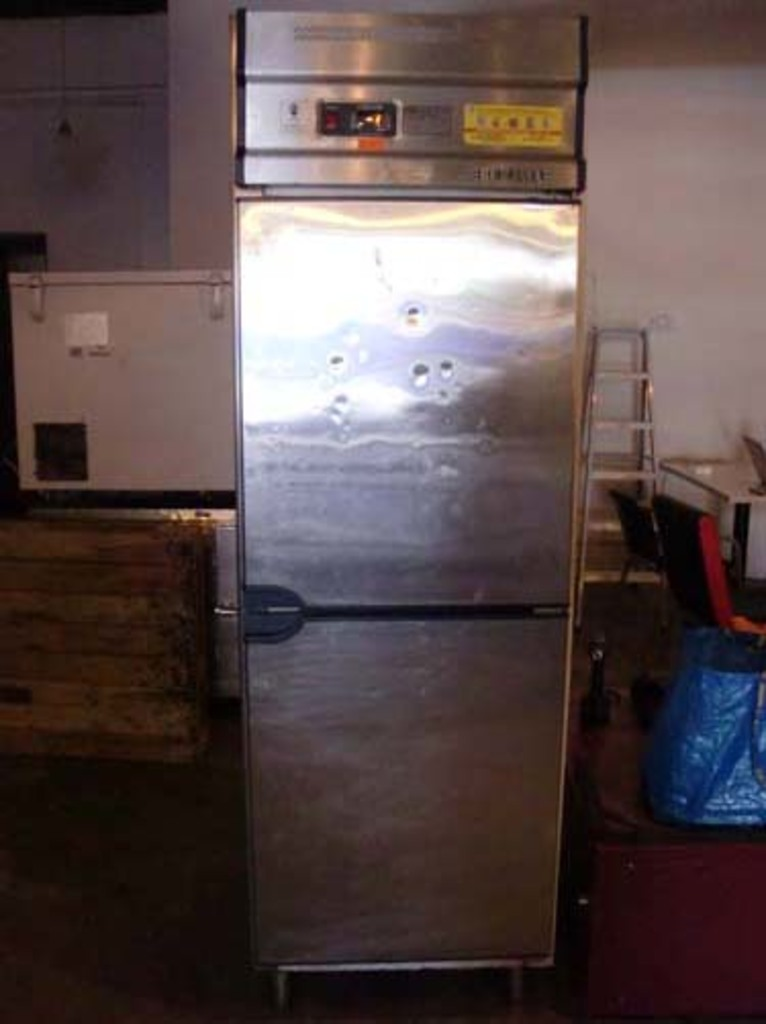handle: (249, 609, 304, 653), (244, 573, 305, 610)
refrigerator door: (241, 192, 570, 603), (244, 613, 556, 954)
